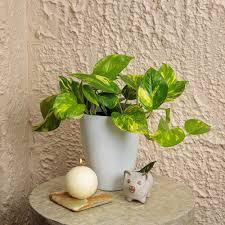Indoor Plant: (38, 54, 209, 147)
candle: (68, 158, 98, 198)
table: (29, 170, 195, 225)
vase: (82, 115, 140, 190)
